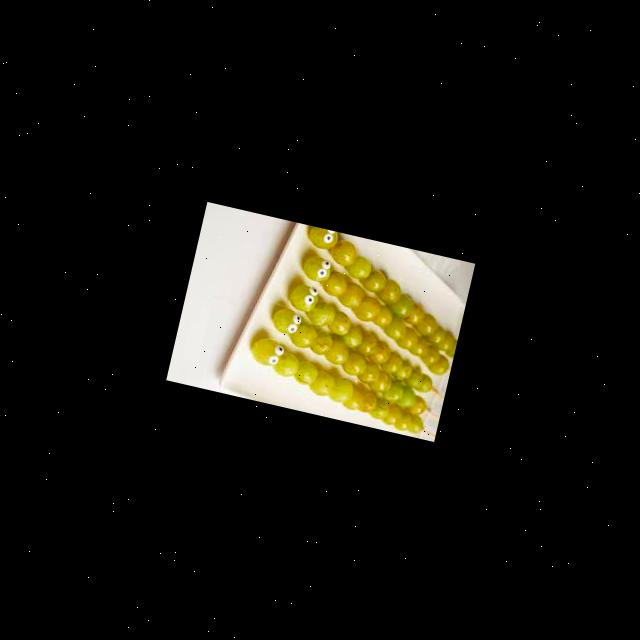grape: (239, 218, 474, 438)
